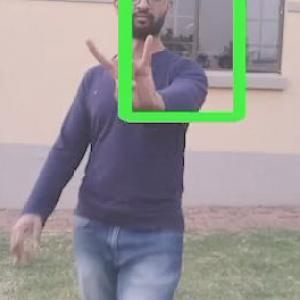takeoff-hand: (76, 25, 165, 128)
